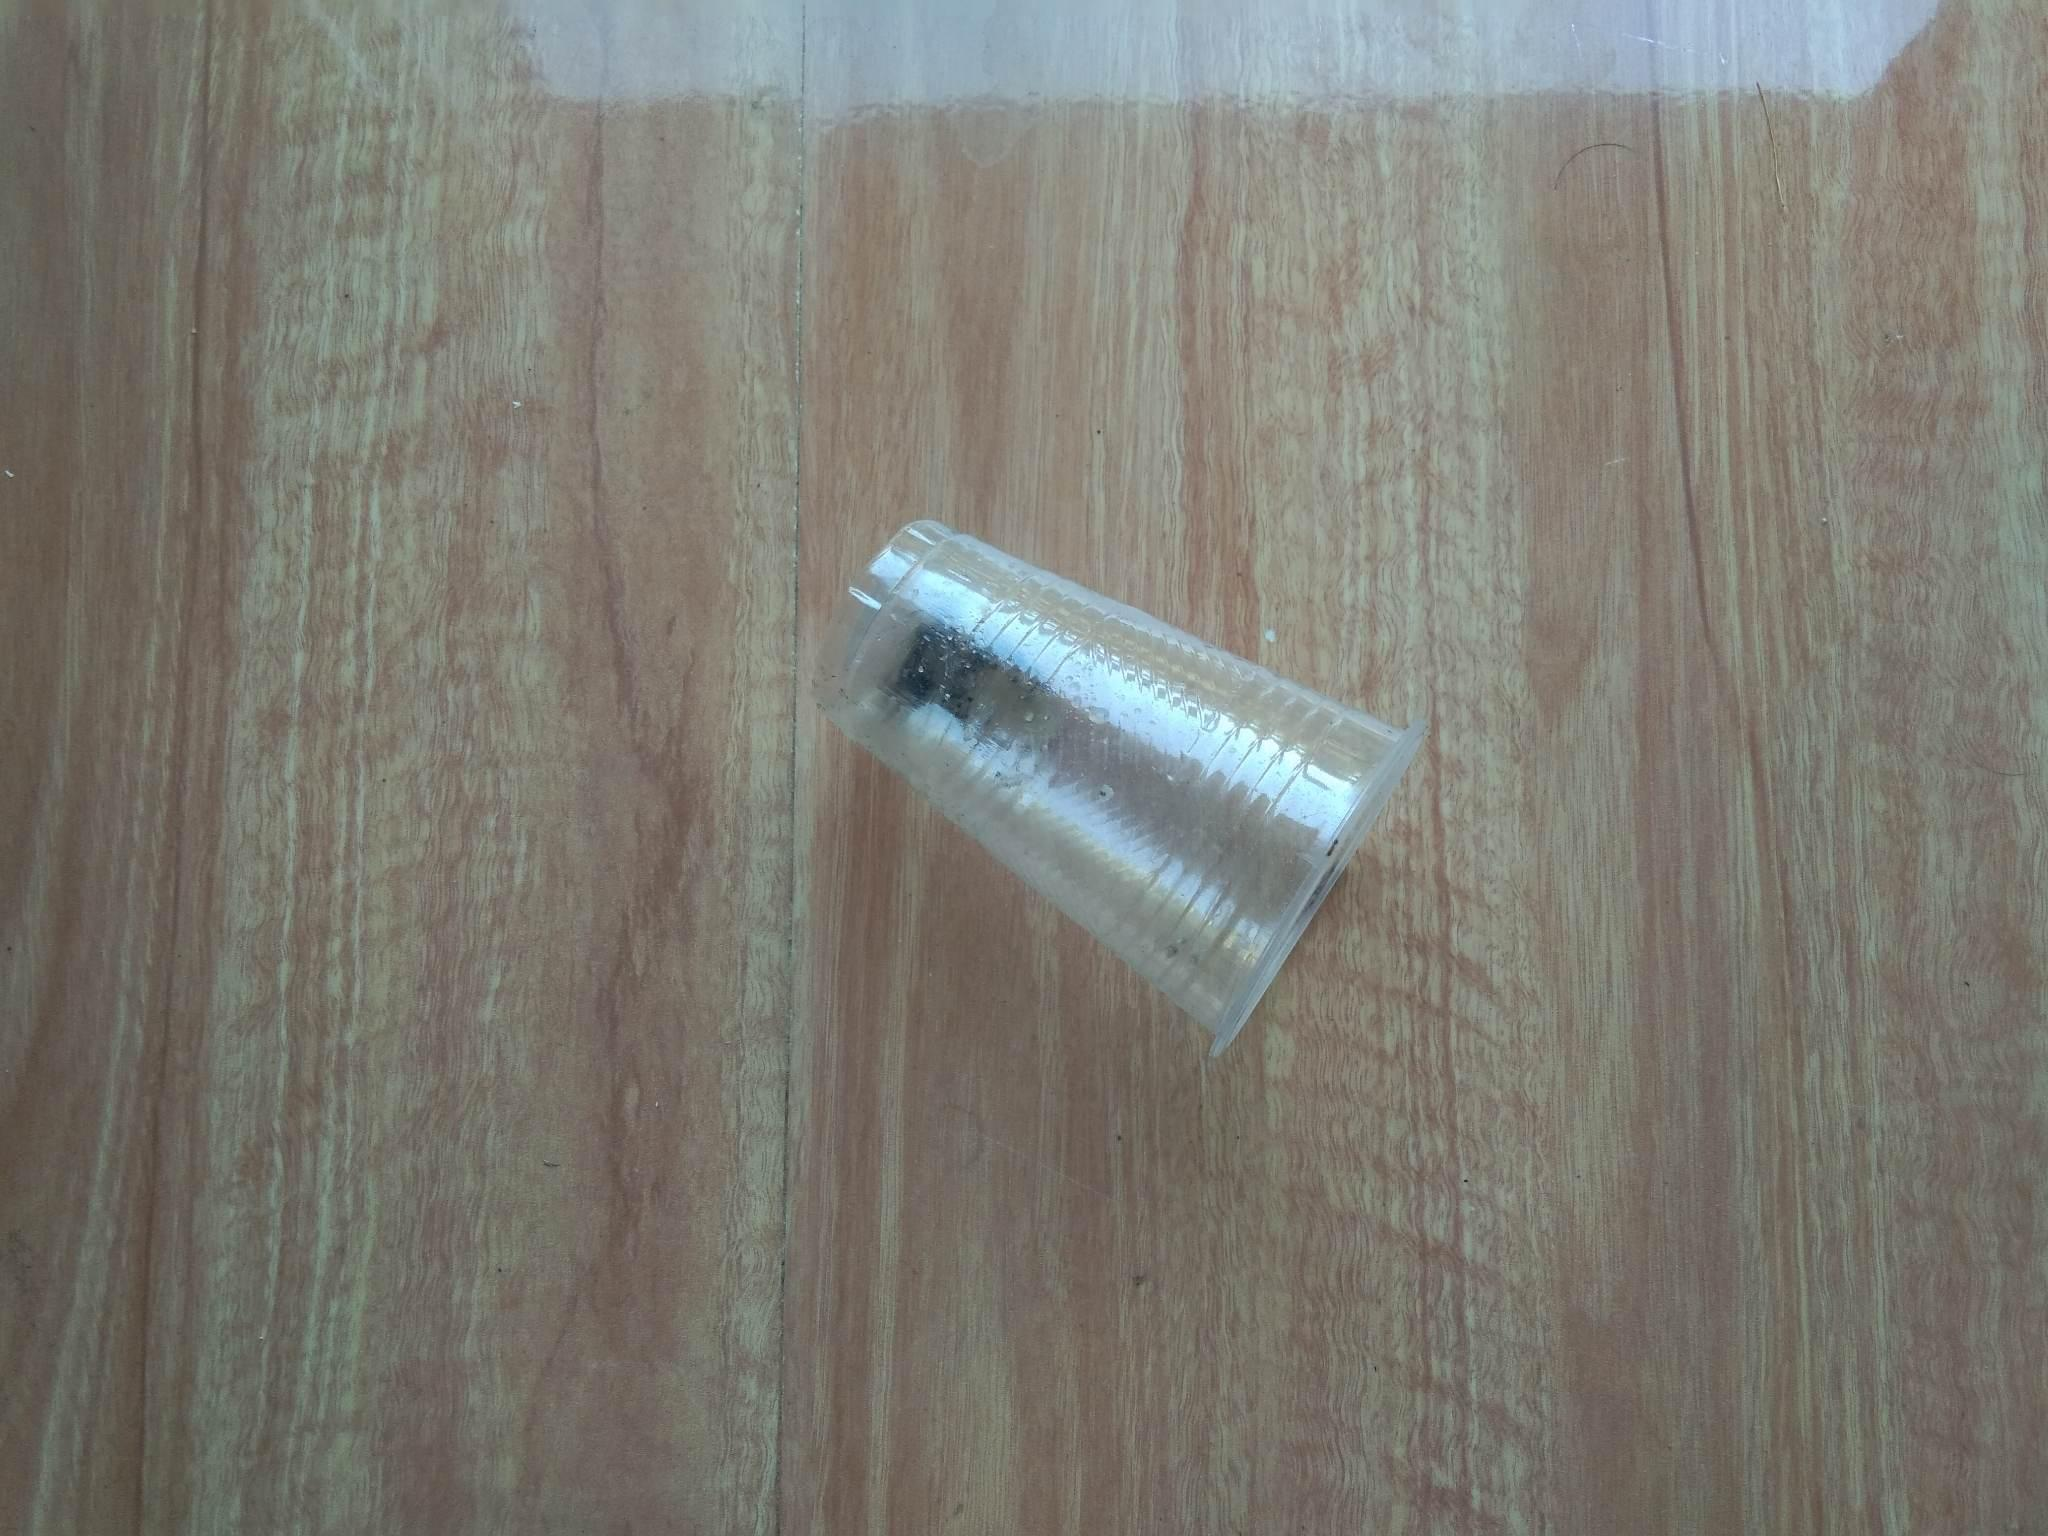plastic: (732, 461, 1476, 1091)
